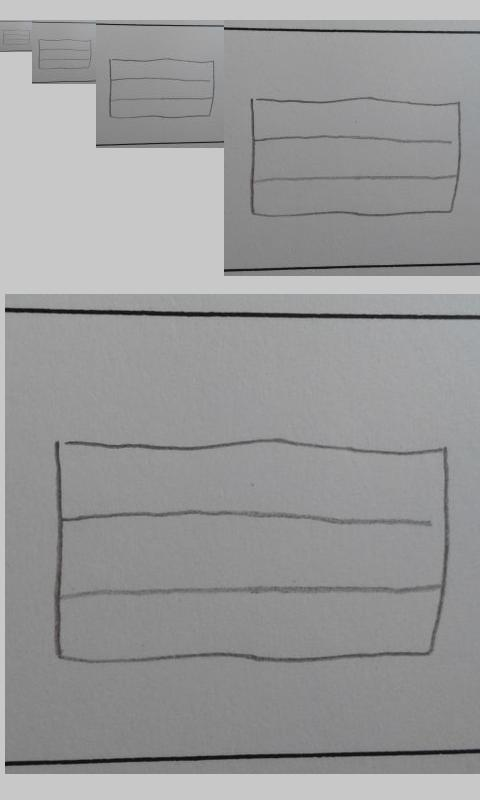list_view: (53, 435, 454, 668), (250, 96, 464, 217), (107, 57, 216, 120), (37, 38, 92, 70), (2, 29, 31, 46)
